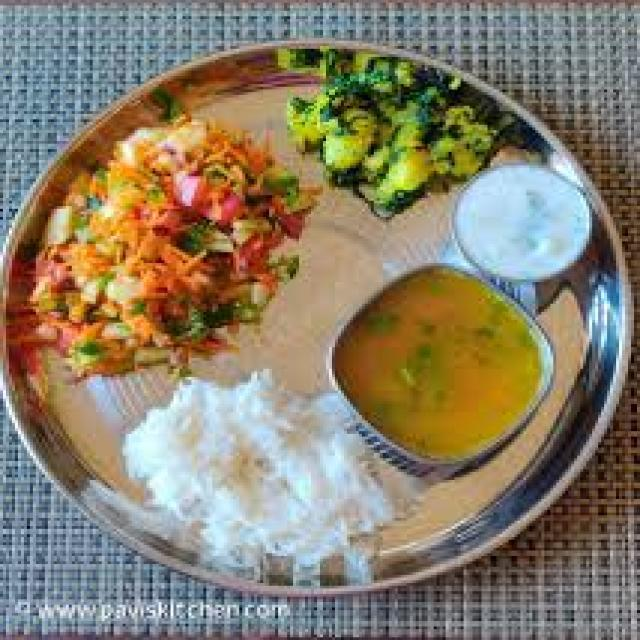curd: (438, 154, 607, 290)
dal: (339, 274, 567, 466)
rice: (187, 390, 374, 561)
